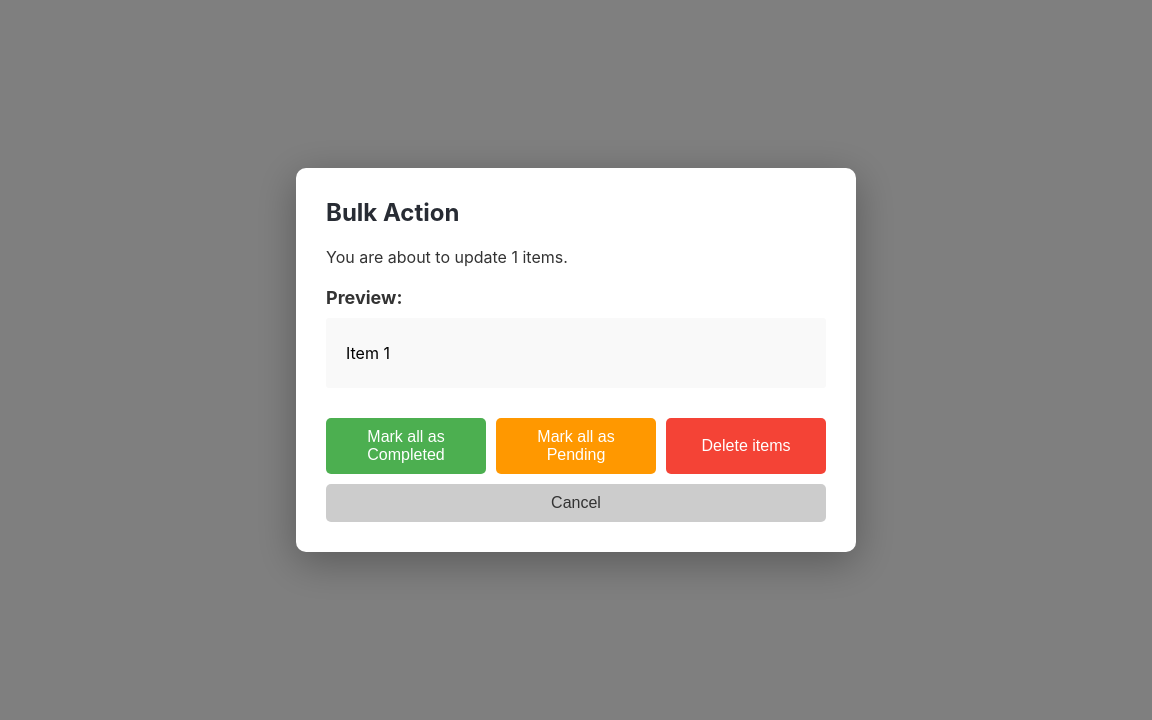
Test case: BulkActionModal › displays singular item when only one selected
Click the button "Mark all as Completed" at (406,446), box [326,418,486,474]
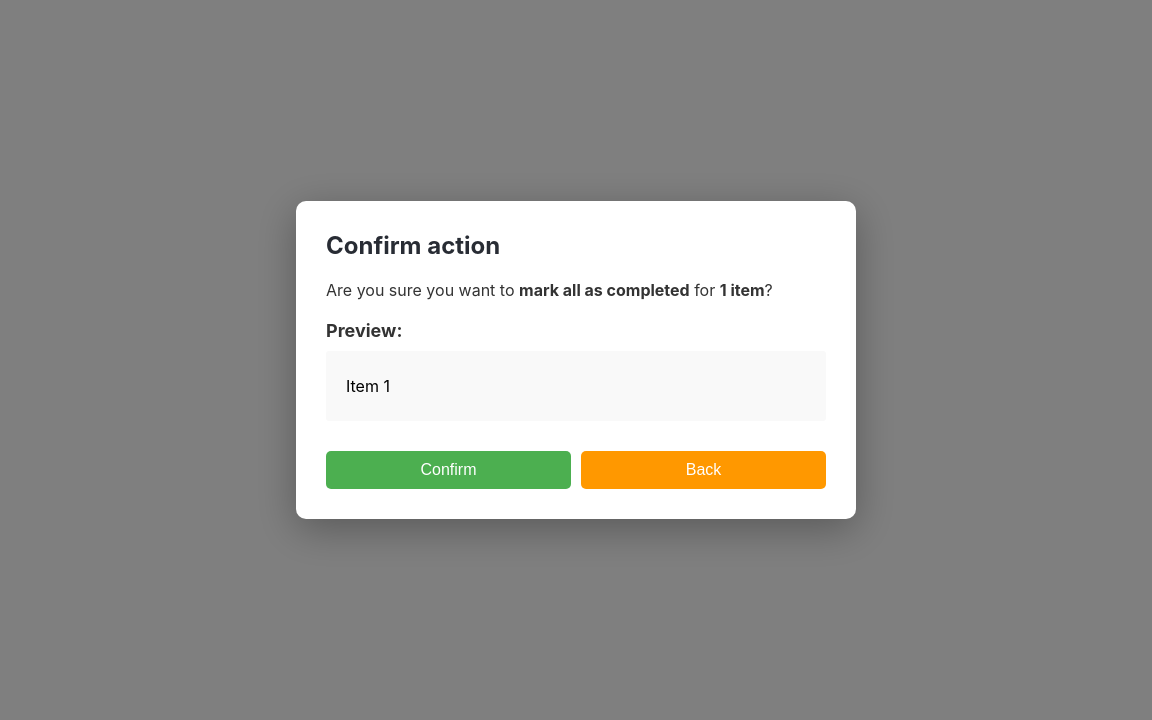
expect the text "1 item" is shown: met, box [720,280,765,300]
expect the text "items" is gone: met
